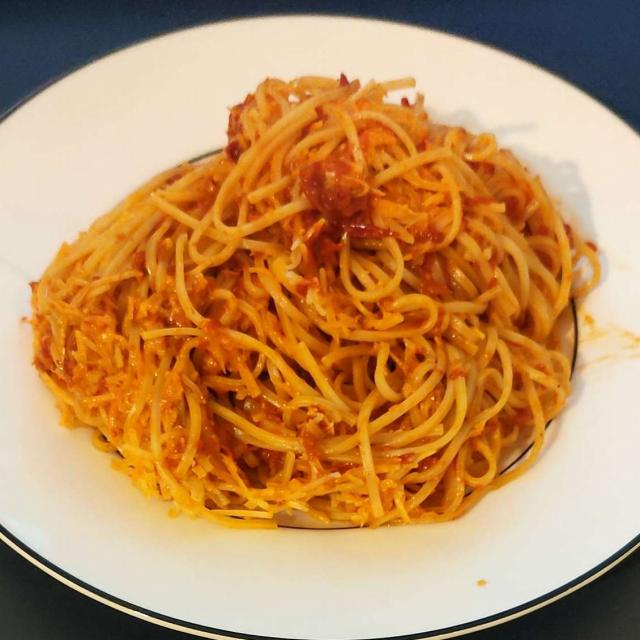pasta-spaghetti: (39, 81, 586, 521)
